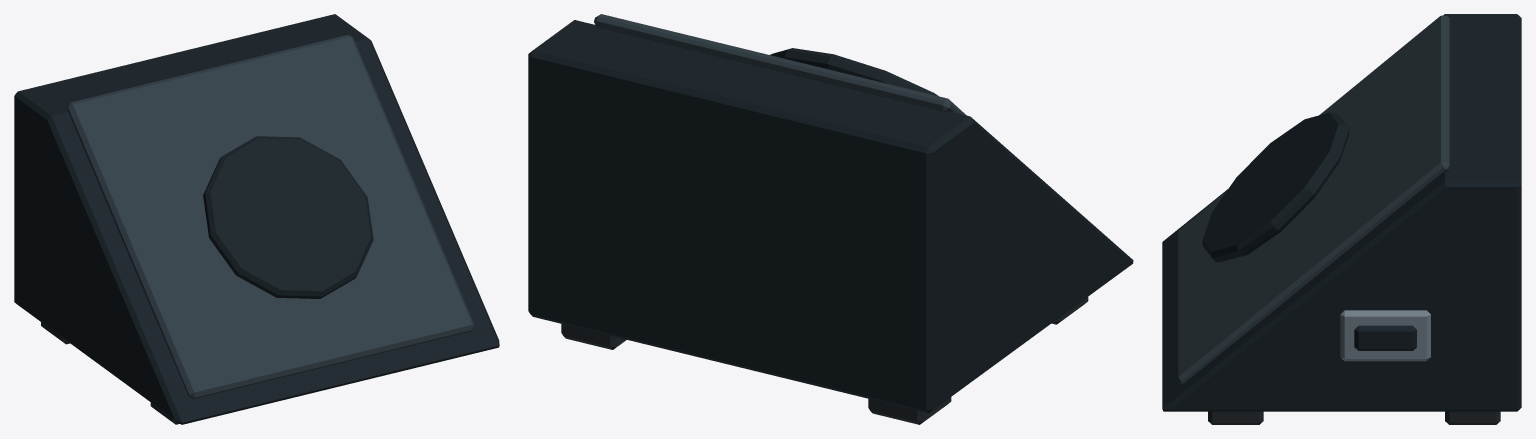
File: b20_stage_floor_monitor_wedge.glb
3 views of the same model, side by side, from view 1: azimuth 30°, elevation 25°; view 2: azimuth 150°, elevation 25°; view 3: azimuth 270°, elevation 25° (orthographic). The views are drawn at different scales.
Parts seen in each view (by area): view 1: b20_stage_floor_monitor_wedge; view 2: b20_stage_floor_monitor_wedge; view 3: b20_stage_floor_monitor_wedge.
Boxes of the visible parts, x1,y1,x2,y2 form: b20_stage_floor_monitor_wedge: [14, 14, 499, 424]; b20_stage_floor_monitor_wedge: [528, 14, 1133, 424]; b20_stage_floor_monitor_wedge: [1162, 14, 1521, 424].
Bounding box in the file's own units: 0.5995 × 0.4138 × 0.5153.
